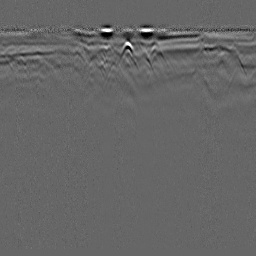cavity: (120, 38, 135, 59)
